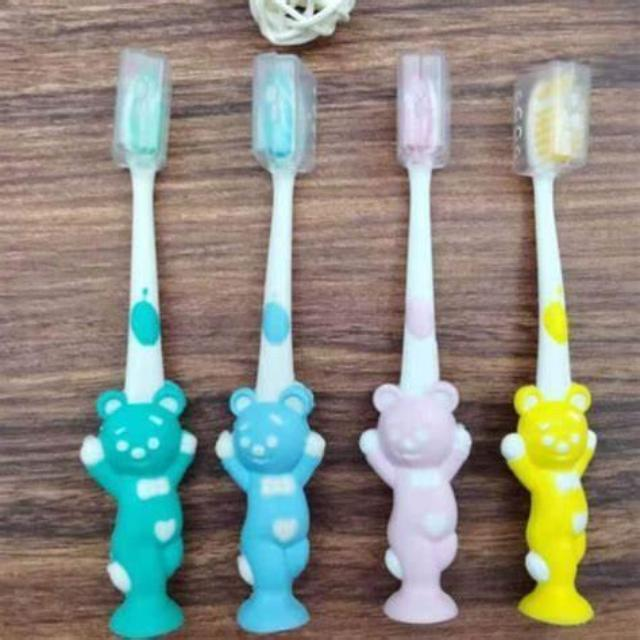toothbrush: (74, 22, 222, 640)
